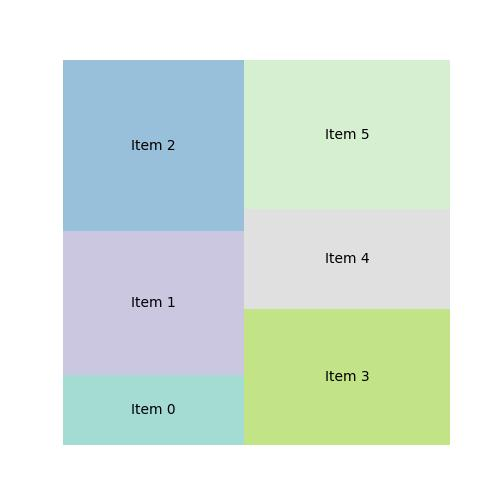rectangle: (64, 59, 244, 231), (244, 59, 449, 209), (244, 311, 451, 443), (61, 229, 244, 373), (246, 207, 451, 310), (63, 372, 244, 444)
